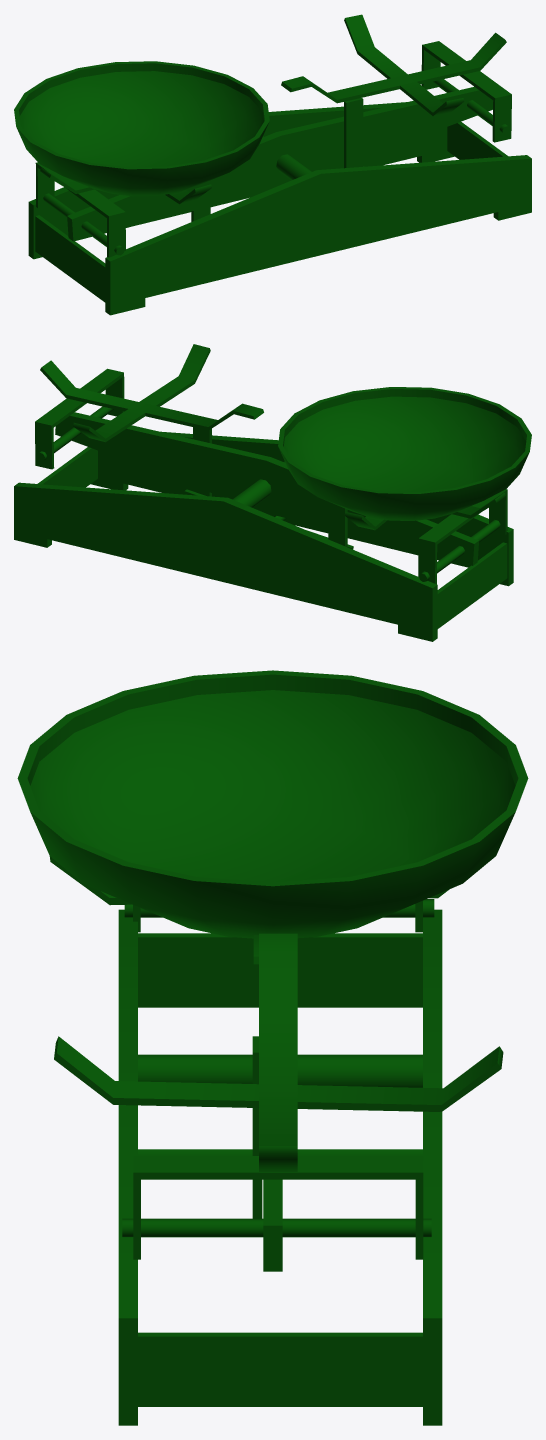
File: various02.FBX
3 renders of one model, top to bottom at view 1: azimuth 30°, elevation 25°; view 2: azimuth 150°, elevation 25°; view 3: azimuth 270°, elevation 25°, orthographic. The views are drawn at different scales.
Parts seen in each view (by area): view 1: SM_various02_0; view 2: SM_various02_0; view 3: SM_various02_0.
Part boxes in pixels (x1=…): SM_various02_0: x1=14, y1=14, x2=531, y2=315; SM_various02_0: x1=14, y1=344, x2=531, y2=641; SM_various02_0: x1=17, y1=670, x2=528, y2=1425.
Bounding box in the file's own units: 56.06 × 26.41 × 17.51.
